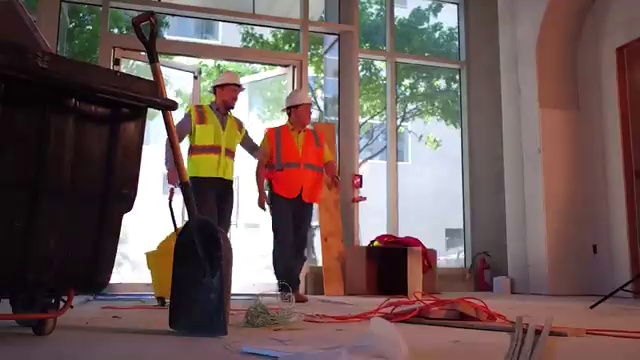helmet: (278, 86, 323, 105), (209, 71, 253, 90)
jacket: (259, 123, 332, 208), (189, 104, 238, 184)
